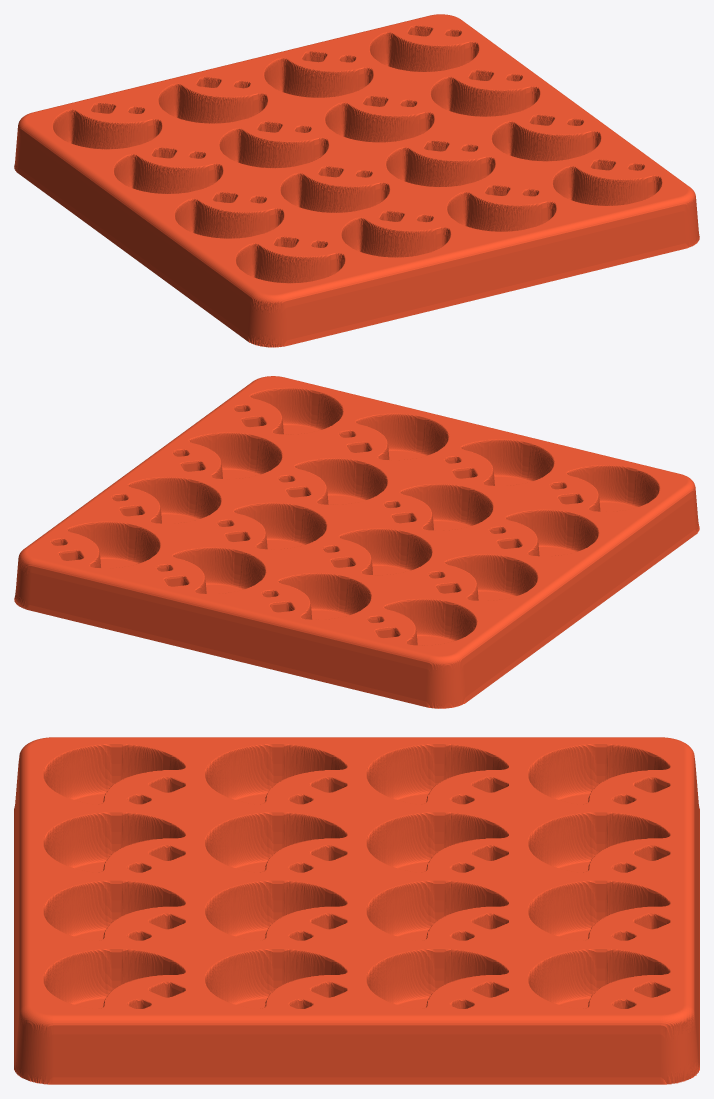
Rendered from mold.glb.
3 views of the same model, one above another, from view 1: azimuth 30°, elevation 25°; view 2: azimuth 150°, elevation 25°; view 3: azimuth 270°, elevation 25° (orthographic). The views are drawn at different scales.
Visible parts, largest first — view 1: geometry_0; view 2: geometry_0; view 3: geometry_0.
Boxes of the visible parts, left/top/right/bottom form: geometry_0: left=14, top=14, right=699, bottom=347; geometry_0: left=14, top=376, right=699, bottom=708; geometry_0: left=14, top=737, right=699, bottom=1084.
Bounding box in the file's own units: 0.1569 × 0.0159 × 0.1569.
